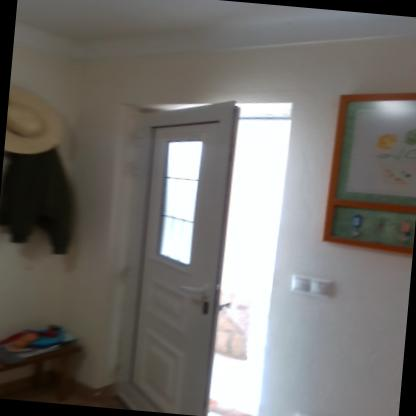semi: (103, 83, 314, 415)
